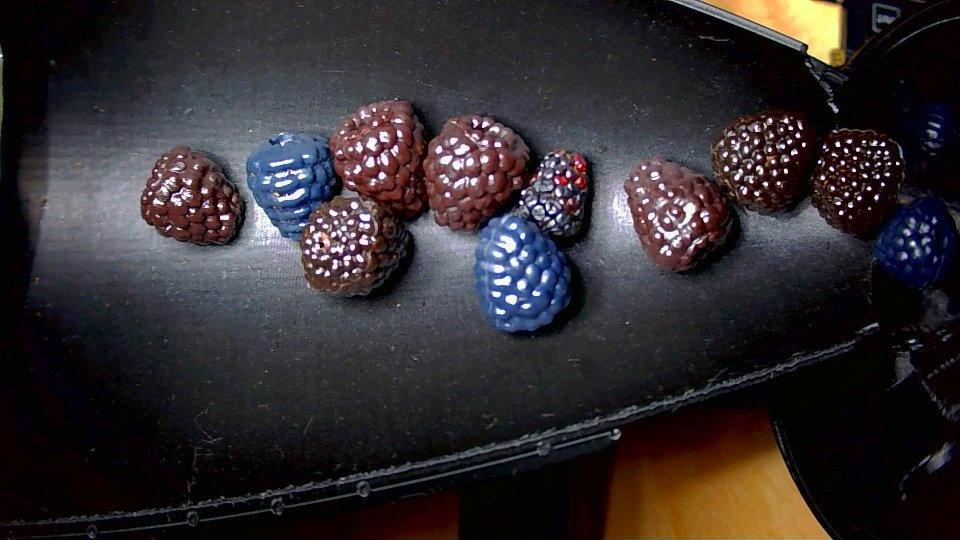berry: (625, 156, 732, 270), (423, 115, 528, 230), (475, 215, 571, 332), (299, 196, 411, 296), (329, 100, 423, 218), (711, 110, 815, 214), (141, 146, 242, 244), (811, 129, 904, 234), (247, 132, 337, 239), (874, 197, 959, 286), (514, 150, 588, 237), (914, 102, 952, 158)
